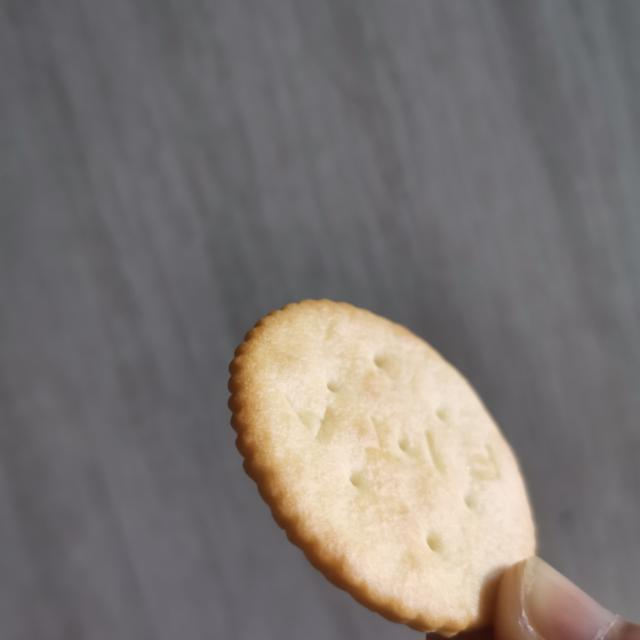Intact: (216, 291, 546, 640)
